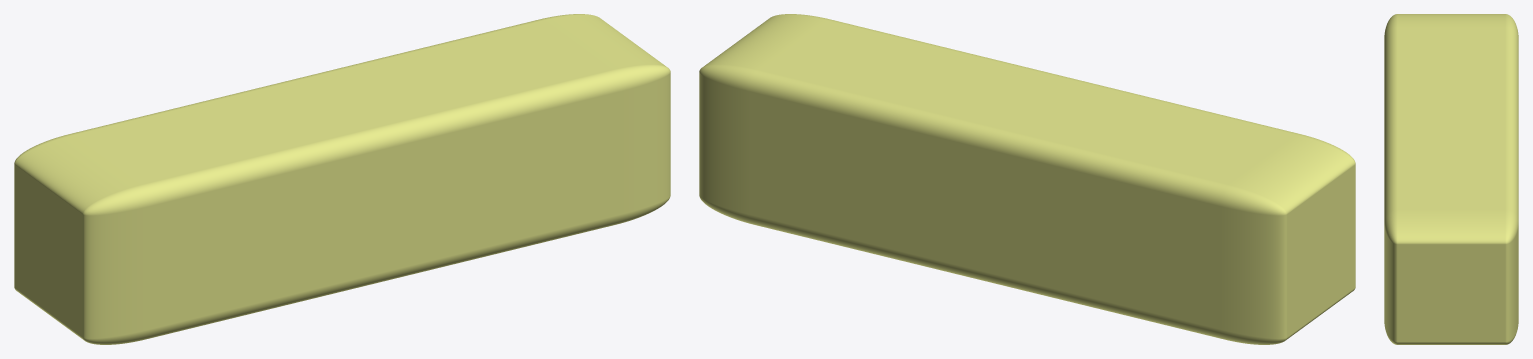
File: butter.fbx
The picture shows the model from 3 angles, left to right: view 1: azimuth 30°, elevation 25°; view 2: azimuth 150°, elevation 25°; view 3: azimuth 270°, elevation 25°; orthographic projection. The views are drawn at different scales.
Parts seen in each view (by area): view 1: Cube; view 2: Cube; view 3: Cube.
Part boxes in pixels (left/top/right/bottom): Cube: left=14, top=14, right=670, bottom=344; Cube: left=699, top=14, right=1355, bottom=344; Cube: left=1384, top=14, right=1518, bottom=344.
Size of the model in its own units: 800 by 200 by 200.
